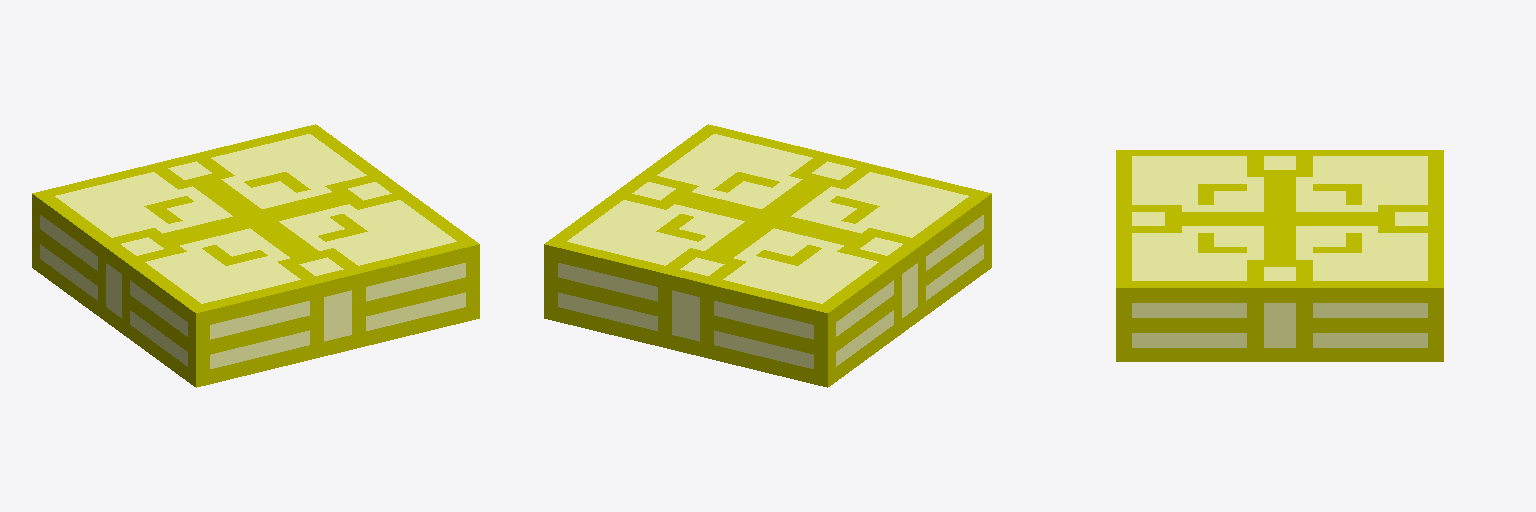
3 views of the same model, side by side, from view 1: azimuth 30°, elevation 25°; view 2: azimuth 150°, elevation 25°; view 3: azimuth 270°, elevation 25° (orthographic).
Parts seen in each view (by area): view 1: object 1; view 2: object 1; view 3: object 1.
Part boxes in pixels (x1,y1,x2,y2): object 1: (32, 124, 479, 387); object 1: (544, 124, 991, 387); object 1: (1116, 150, 1443, 361).
Bounding box in the file's own units: 2 × 0.5 × 2.
1 materials, 1 textured.